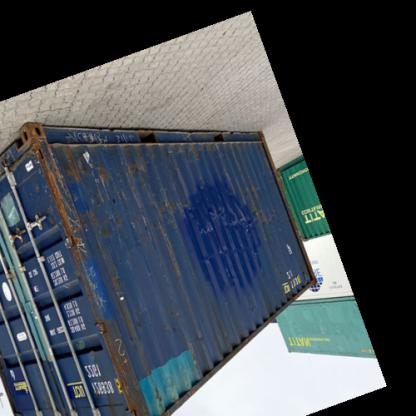Damage: (42, 150, 102, 260), (196, 203, 258, 236), (136, 203, 181, 243), (164, 140, 236, 164), (204, 245, 258, 270), (120, 160, 160, 188), (106, 335, 136, 372), (214, 328, 236, 352), (148, 384, 168, 410), (190, 328, 204, 352)
